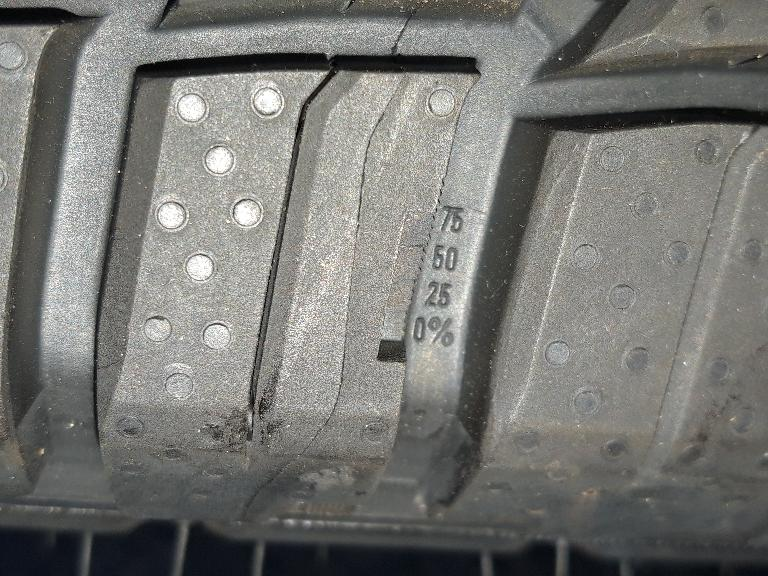temoin:100: (370, 171, 450, 375)
